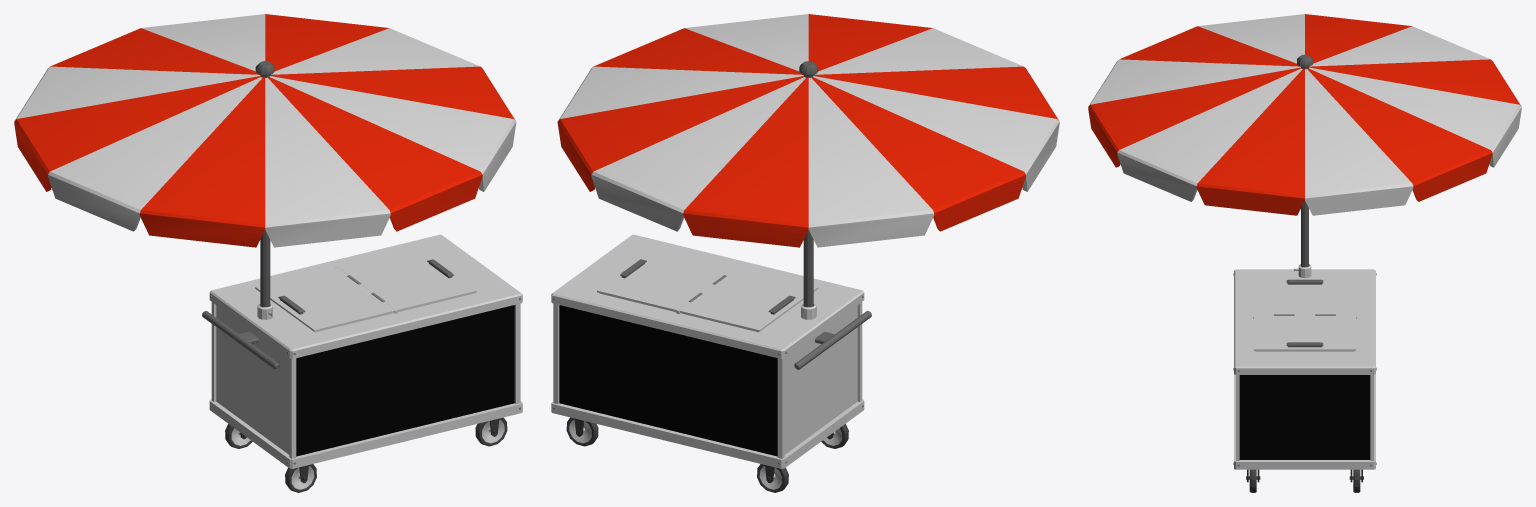
Rendered from Cart.fbx.
3 views of the same model, side by side, from view 1: azimuth 30°, elevation 25°; view 2: azimuth 150°, elevation 25°; view 3: azimuth 270°, elevation 25° (orthographic). The views are drawn at different scales.
Parts seen in each view (by area): view 1: Umbfella, Body, DoorL, DoorR, Wheel1 (×2); view 2: Umbfella, Body, DoorL, DoorR, Wheel1 (×2); view 3: Umbfella, Body, DoorL, DoorR.
Boxes of the visible parts, x1,y1,x2,y2 form: Umbfella: (14,14,516,307); Body: (202,234,522,468); DoorL: (337,247,476,311); DoorR: (255,267,394,332); Wheel1 (×2): (285,417,507,492); Umbfella: (557,14,1059,307); Body: (551,234,871,468); DoorL: (597,247,736,311); DoorR: (679,267,818,332); Wheel1 (×2): (566,417,788,492); Umbfella: (1088,14,1521,267); Body: (1233,264,1376,469); DoorL: (1254,315,1355,351); DoorR: (1254,279,1355,314).
Size of the model in its own units: 302 by 270 by 301.
